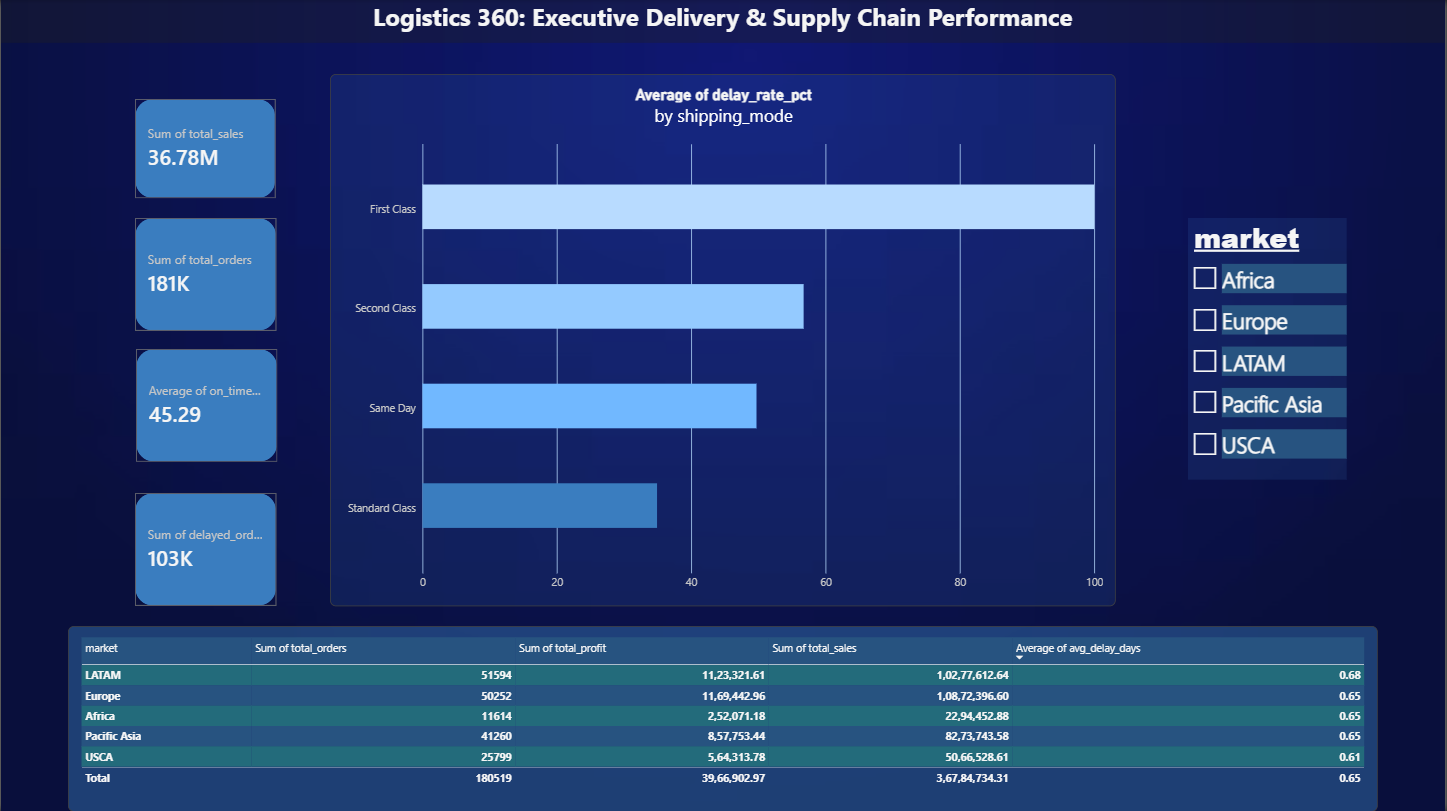

Layout of this report page (visuals, bound fields, positions):
{"tool":"powerbi","page":{"name":"Executive Delivery & OTIF","canvas":[1920,1080],"ordinal":0},"visuals":[{"type":"textbox","box":[0,0,1920,56.6],"z":0},{"type":"cardVisual","fields":{"Data":["Sum(gold_shipment_delivery_kpis.total_sales)"]},"box":[178.2,131.7,187.6,132.4],"z":1000},{"type":"cardVisual","fields":{"Data":["Sum(gold_shipment_delivery_kpis.total_orders)"]},"box":[178.2,290,188,150],"z":2000},{"type":"cardVisual","fields":{"Data":["Avg(gold_shipment_delivery_kpis.on_time_delivery_pct)"]},"box":[179.6,464.2,188,150],"z":3000},{"type":"cardVisual","fields":{"Data":["Sum(gold_shipment_delivery_kpis.delayed_orders_count)"]},"box":[178.2,655.7,188,150],"z":4000},{"type":"clusteredBarChart","fields":{"Category":["gold_shipment_delivery_kpis.shipping_mode"],"Y":["Avg(gold_shipment_delivery_kpis.delay_rate_pct)"]},"box":[437.6,98.4,1045.4,707.6],"z":5000},{"type":"tableEx","fields":{"Values":["gold_shipment_delivery_kpis.market","Sum(gold_shipment_delivery_kpis.total_orders)","Sum(gold_shipment_delivery_kpis.total_profit)","Sum(gold_shipment_delivery_kpis.total_sales)","Avg(gold_shipment_delivery_kpis.avg_delay_days)"]},"box":[89.1,832.6,1742.4,247.4],"z":6000},{"type":"slicer","fields":{"Values":["gold_shipment_delivery_kpis.market"]},"box":[1578.8,290,211.5,348.5],"z":7000}]}

Visuals, with their boxes in screenshot pixels (x1, y1, x2, y2), scaled from the page's 1920x1080 canvas onto the 1447x811 screenshot:
textbox: BBox(0, 0, 1446, 43)
cardVisual - Sum(gold_shipment_delivery_kpis.total_sales): BBox(134, 99, 276, 198)
cardVisual - Sum(gold_shipment_delivery_kpis.total_orders): BBox(134, 218, 276, 330)
cardVisual - Avg(gold_shipment_delivery_kpis.on_time_delivery_pct): BBox(135, 349, 277, 461)
cardVisual - Sum(gold_shipment_delivery_kpis.delayed_orders_count): BBox(134, 492, 276, 605)
clusteredBarChart - gold_shipment_delivery_kpis.shipping_mode x Avg(gold_shipment_delivery_kpis.delay_rate_pct): BBox(330, 74, 1118, 605)
tableEx - gold_shipment_delivery_kpis.market x Sum(gold_shipment_delivery_kpis.total_orders): BBox(67, 625, 1380, 810)
slicer - gold_shipment_delivery_kpis.market: BBox(1190, 218, 1349, 479)
